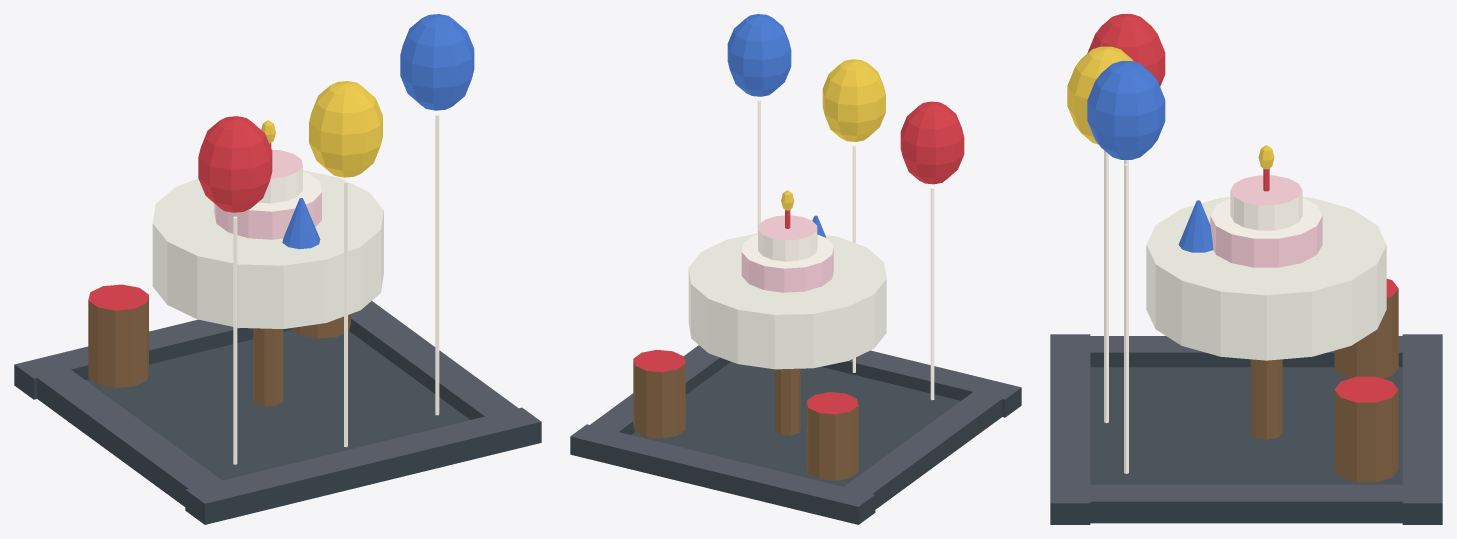
Rendered from Building_PartySpot.glb.
The picture shows the model from 3 angles, left to right: view 1: azimuth 30°, elevation 25°; view 2: azimuth 150°, elevation 25°; view 3: azimuth 270°, elevation 25°; orthographic projection. The views are drawn at different scales.
Visible parts, largest first — view 1: PartySpot; view 2: PartySpot; view 3: PartySpot.
Boxes of the visible parts, box(x1,y1,x2,y2) form: PartySpot: box(14, 14, 541, 524); PartySpot: box(570, 14, 1021, 524); PartySpot: box(1050, 14, 1442, 524).
Size of the model in its own units: 1 by 1.18 by 0.98.
1 material, 1 textured.
